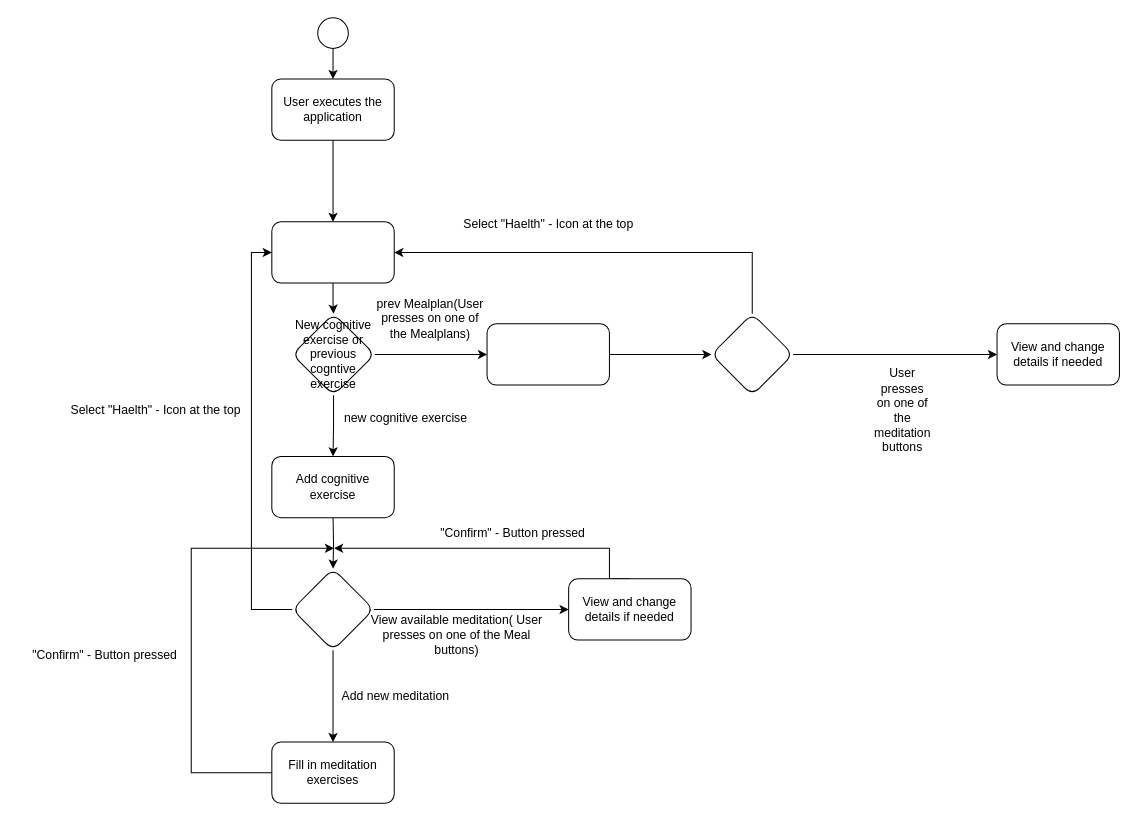
This 1137x821 diagram has some shape labels left out. The centre of each missing label's shape, as x and y in pixels:
Meditation Tab of the Selected Cognitive Exercise: pixel 547 354
Mindfullness: pixel 332 252
View meditation or add new meditation?: pixel 332 609
